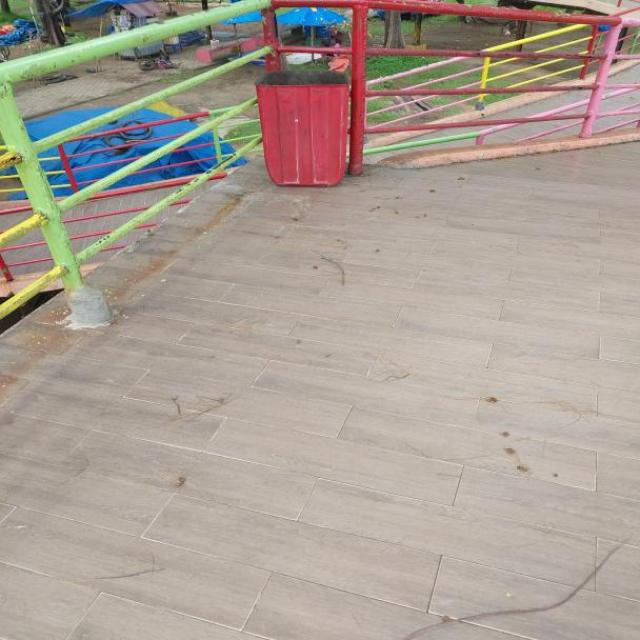dustbin ahead at: (248, 66, 361, 190)
